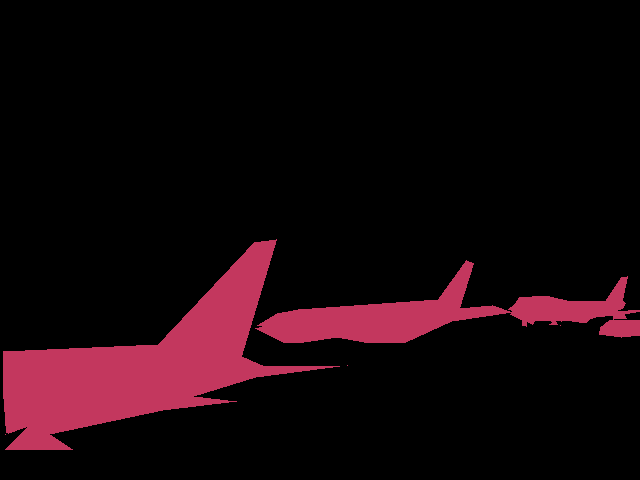Airplane: (3, 239, 347, 450), (255, 260, 512, 342), (508, 276, 640, 327), (599, 319, 640, 337)
